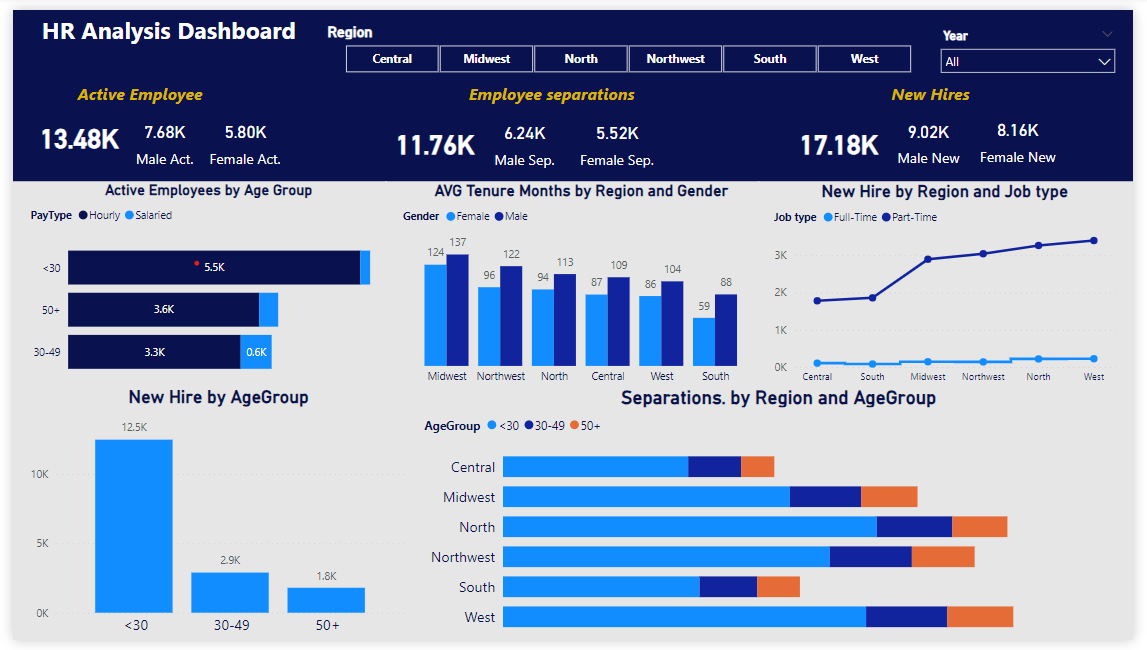

Layout of this report page (visuals, bound fields, positions):
{"tool":"powerbi","page":{"name":"Page 1","canvas":[1280,720],"ordinal":0},"visuals":[{"type":"textbox","box":[10,0,341.2,57.5],"z":0},{"type":"slicer","title":"Region","fields":{"Values":["BU.Region"]},"box":[354.7,14.6,695.9,64.1],"z":1000},{"type":"slicer","fields":{"Values":["Date.Date","Date.Year"]},"box":[1050.6,15.6,219.7,63.2],"z":2000},{"type":"textbox","box":[68.6,78.8,188.4,39.9],"z":3000},{"type":"textbox","box":[999.1,78.7,121.5,39.8],"z":4000},{"type":"textbox","box":[515.1,78.7,211.9,39.8],"z":5000},{"type":"card","fields":{"Values":["measures Table.active employees"]},"box":[9.2,111.6,134.1,67.6],"z":6000},{"type":"card","title":"Male","fields":{"Values":["measures Table.Male Actives"]},"box":[131.1,118.8,84,64.5],"z":7000},{"type":"card","title":"Male","fields":{"Values":["measures Table.Female Emp Actives"]},"box":[215,118.8,99.3,64.5],"z":8000},{"type":"card","fields":{"Values":["measures Table.Separations."]},"box":[409.6,123.9,144.4,55.3],"z":9000},{"type":"card","title":"Male","fields":{"Values":["measures Table.Male Separations"]},"box":[538.6,116.7,92.2,68.6],"z":10000},{"type":"card","title":"Male","fields":{"Values":["measures Table.Female Separationss"]},"box":[630.8,118.8,117.8,66.6],"z":11000},{"type":"card","fields":{"Values":["measures Table.new Hire"]},"box":[871.4,124.9,144.4,55.3],"z":12000},{"type":"card","title":"Male","fields":{"Values":["measures Table.Male New Hires"]},"box":[1000,115,92.5,68.8],"z":13000},{"type":"card","title":"Male","fields":{"Values":["measures Table.Female New Hires"]},"box":[1092.5,116.2,111.2,65],"z":14000},{"type":"barChart","title":"Active Employees by Age Group","fields":{"Y":["measures Table.active employees"],"Category":["AgeGroup.AgeGroup"],"Series":["PayType.PayType"]},"box":[0,195.6,427,235.5],"z":15000},{"type":"clusteredColumnChart","fields":{"Category":["BU.Region"],"Y":["measures Table.AVG Tenure Months"],"Series":["Gender.Gender"]},"box":[426.2,195,427.5,236.2],"z":15001},{"type":"lineChart","title":"New Hire by Region and Job type","fields":{"Category":["BU.Region"],"Series":["FP.Job type"],"Y":["measures Table.new Hire"]},"box":[852,195,428.8,236.2],"z":15002},{"type":"columnChart","title":"New Hire by AgeGroup","fields":{"Y":["measures Table.new Hire"],"Category":["AgeGroup.AgeGroup"]},"box":[0,430,450,290],"z":15003},{"type":"barChart","fields":{"Category":["BU.Region"],"Y":["measures Table.Separations."],"Series":["AgeGroup.AgeGroup"]},"box":[450,430,830,290],"z":15004}]}

Visuals, with their boxes in screenshot pixels (x1, y1, x2, y2), scaled from the page's 1280x720 canvas onto the 1147x650 screenshot:
textbox: select_region(9, 0, 315, 52)
"Region" slicer: select_region(318, 13, 941, 71)
slicer - Date.Date x Date.Year: select_region(941, 14, 1138, 71)
textbox: select_region(61, 71, 230, 107)
textbox: select_region(895, 71, 1004, 107)
textbox: select_region(462, 71, 651, 107)
card - measures Table.active employees: select_region(8, 101, 128, 162)
"Male" card: select_region(117, 107, 193, 165)
"Male" card: select_region(193, 107, 282, 165)
card - measures Table.Separations.: select_region(367, 112, 496, 162)
"Male" card: select_region(483, 105, 565, 167)
"Male" card: select_region(565, 107, 671, 167)
card - measures Table.new Hire: select_region(781, 113, 910, 163)
"Male" card: select_region(896, 104, 979, 166)
"Male" card: select_region(979, 105, 1079, 164)
"Active Employees by Age Group" barChart: select_region(0, 177, 383, 389)
clusteredColumnChart - BU.Region x measures Table.AVG Tenure Months: select_region(382, 176, 765, 389)
"New Hire by Region and Job type" lineChart: select_region(763, 176, 1146, 389)
"New Hire by AgeGroup" columnChart: select_region(0, 388, 403, 649)
barChart - BU.Region x measures Table.Separations.: select_region(403, 388, 1146, 649)
